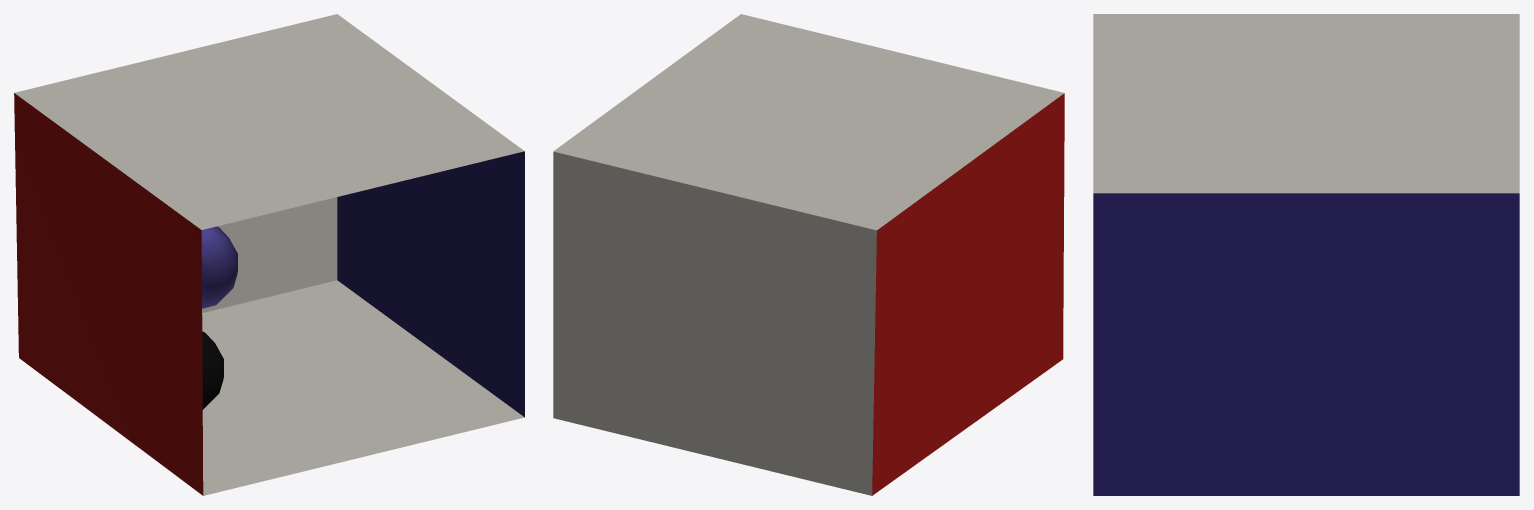
Rendered from CornellBox-Sphere-833.obj.
3 views of the same model, side by side, from view 1: azimuth 30°, elevation 25°; view 2: azimuth 150°, elevation 25°; view 3: azimuth 270°, elevation 25° (orthographic). The views are drawn at different scales.
Parts seen in each view (by area): view 1: ceiling, leftWall, floor, rightWall, backWall, leftSphere, rightSphere; view 2: backWall, ceiling, leftWall; view 3: rightWall, ceiling.
Part boxes in pixels (x1,y1,x2,y2): ceiling: (14,14,524,229); leftWall: (14,93,203,495); floor: (202,280,524,495); rightWall: (337,151,524,417); backWall: (202,197,337,312); leftSphere: (201,226,237,308); rightSphere: (202,331,223,409); backWall: (553,151,876,495); ceiling: (553,14,1064,230); leftWall: (872,93,1064,495); rightWall: (1093,193,1519,495); ceiling: (1093,14,1519,193).
Size of the model in its own units: 2.02 by 1.59 by 2.03.
